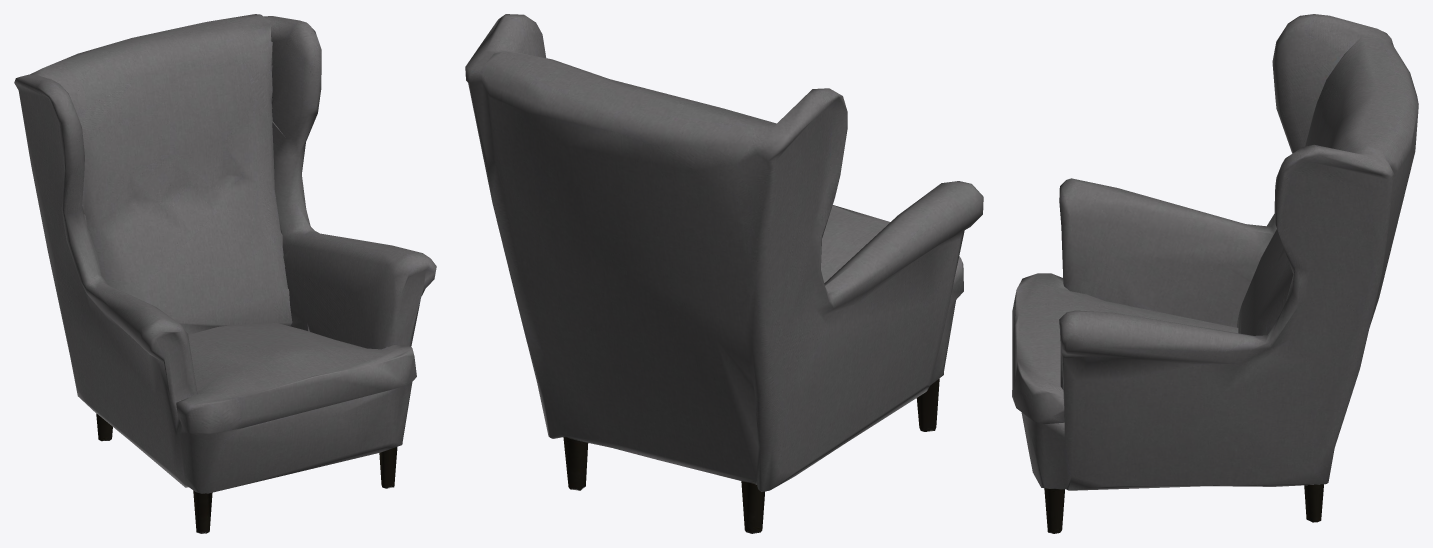
Rendered from strandmon_fotelik_dzieciecy_70392542.glb.
3 renders of one model, left to right at view 1: azimuth 30°, elevation 25°; view 2: azimuth 150°, elevation 25°; view 3: azimuth 270°, elevation 25°, orthographic. The views are drawn at different scales.
Visible parts, largest first — view 1: strandmon_fotelik_dzieciecy_70392542; view 2: strandmon_fotelik_dzieciecy_70392542; view 3: strandmon_fotelik_dzieciecy_70392542.
Boxes of the visible parts, x1=… form: strandmon_fotelik_dzieciecy_70392542: x1=14, y1=14, x2=436, y2=533; strandmon_fotelik_dzieciecy_70392542: x1=465, y1=14, x2=983, y2=533; strandmon_fotelik_dzieciecy_70392542: x1=1012, y1=14, x2=1418, y2=533.
Bounding box in the file's own units: 0.5888 × 0.7116 × 0.6547.
Materials: 1 (1 with a texture image).
